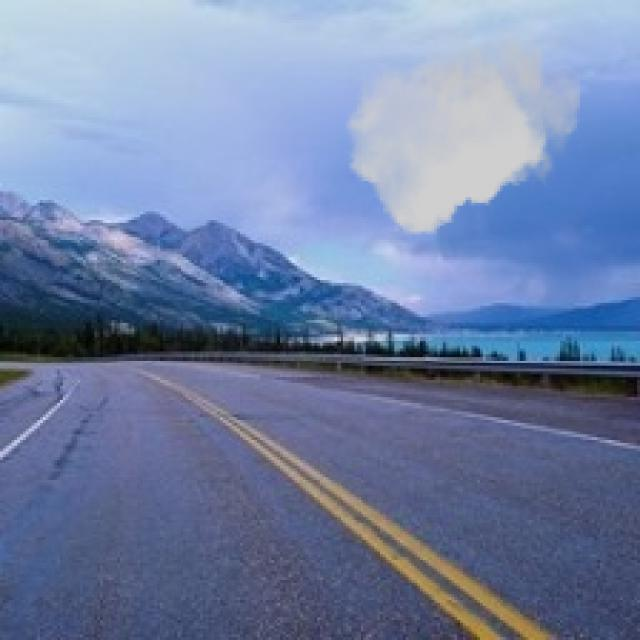smoke: (346, 29, 580, 234)
